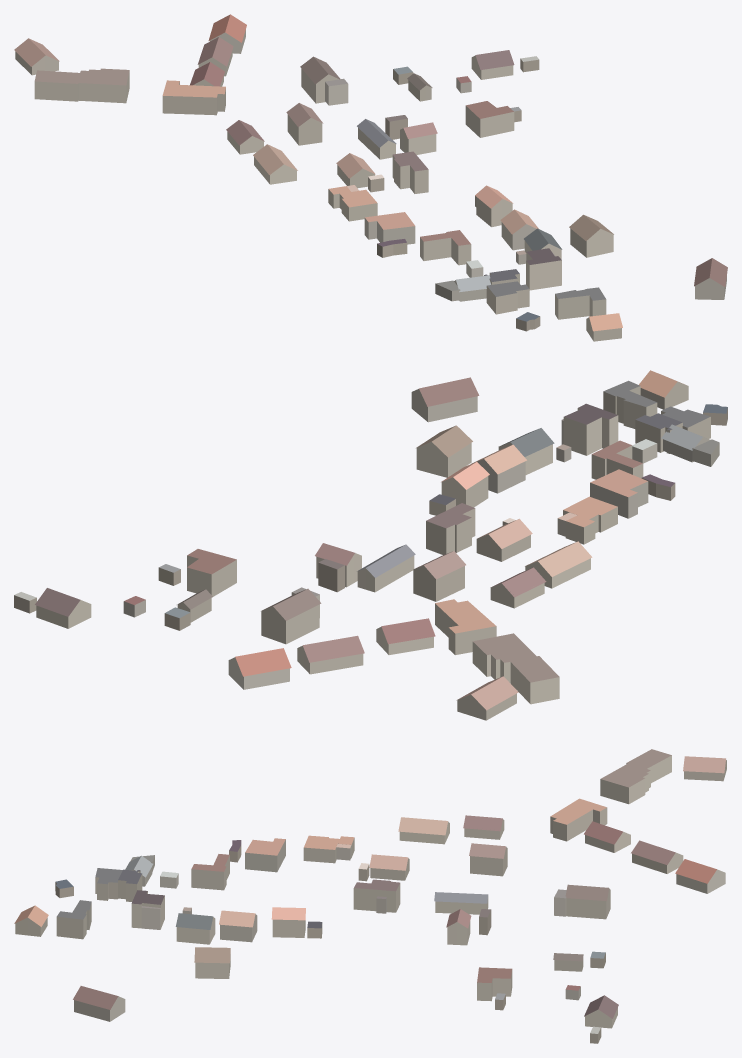
3 renders of one model, top to bottom at view 1: azimuth 30°, elevation 25°; view 2: azimuth 150°, elevation 25°; view 3: azimuth 270°, elevation 25°, orthographic. The views are drawn at different scales.
Parts seen in each view (by area): view 1: tuile; view 2: tuile; view 3: tuile.
Boxes of the visible parts, x1,y1,x2,y2 form: tuile: (14,14,727,341); tuile: (14,370,727,720); tuile: (14,749,726,1043).
Size of the model in its own units: 186 by 36.06 by 257.
